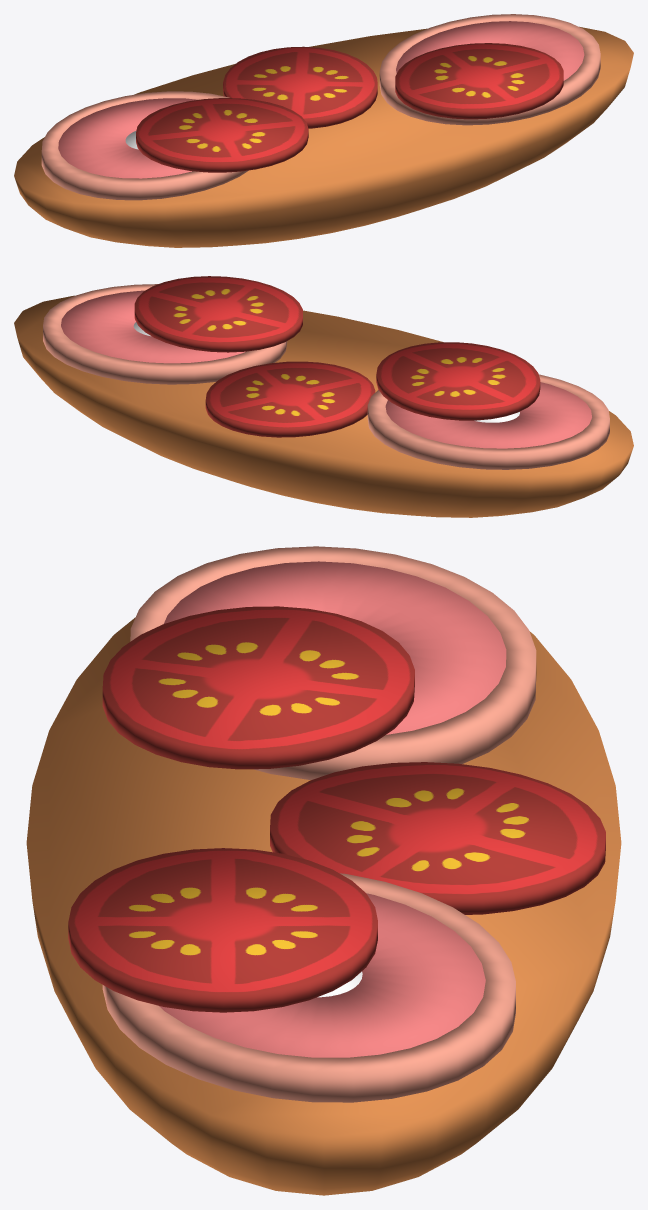
The model's file is kanapka_szynka_pomidor.gltf.
3 views of the same model, one above another, from view 1: azimuth 30°, elevation 25°; view 2: azimuth 150°, elevation 25°; view 3: azimuth 270°, elevation 25° (orthographic). The views are drawn at different scales.
Parts seen in each view (by area): view 1: Sphere, Sphere.004, Circle.001, Circle, Sphere.003, Circle.002; view 2: Sphere, Sphere.004, Sphere.003, Circle, Circle.001, Circle.002; view 3: Sphere, Sphere.003, Circle.001, Circle, Sphere.004, Circle.002.
Boxes of the visible parts, x1,y1,x2,y2 form: Sphere: (14, 26, 633, 247); Sphere.004: (41, 91, 248, 200); Circle.001: (136, 98, 308, 172); Circle: (395, 43, 563, 119); Sphere.003: (379, 14, 600, 125); Circle.002: (223, 46, 377, 128); Sphere: (14, 295, 633, 517); Sphere.004: (367, 374, 609, 469); Sphere.003: (43, 284, 287, 384); Circle: (134, 276, 302, 352); Circle.001: (376, 342, 540, 420); Circle.002: (205, 361, 375, 437); Sphere: (26, 617, 621, 1195); Sphere.003: (102, 873, 515, 1102); Circle.001: (102, 606, 414, 769); Circle: (68, 848, 377, 1012); Sphere.004: (130, 546, 536, 779); Circle.002: (270, 762, 605, 914).
Size of the model in its own units: 0.2883 by 0.0557 by 0.1233.
5 materials, 5 textured.
